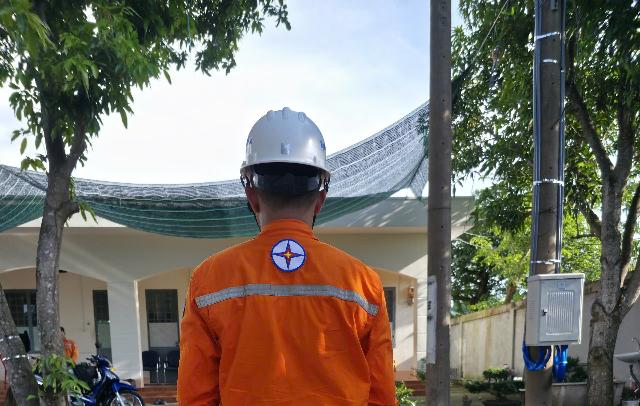helmet: (229, 96, 339, 195)
